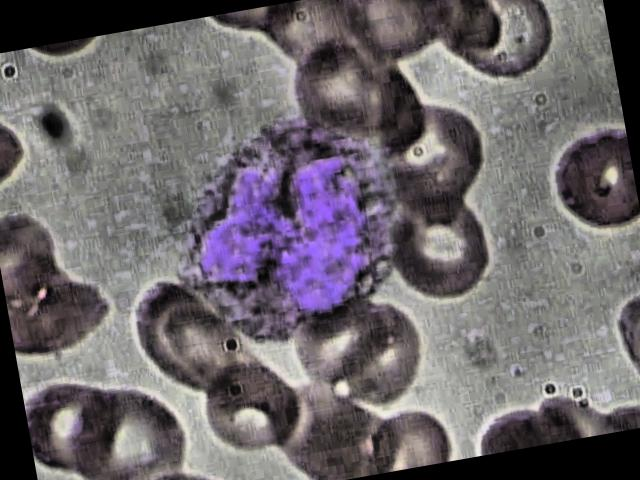RBC: (382, 177, 506, 312), (58, 369, 202, 480), (534, 111, 640, 242)
WBC: (150, 88, 423, 360)
